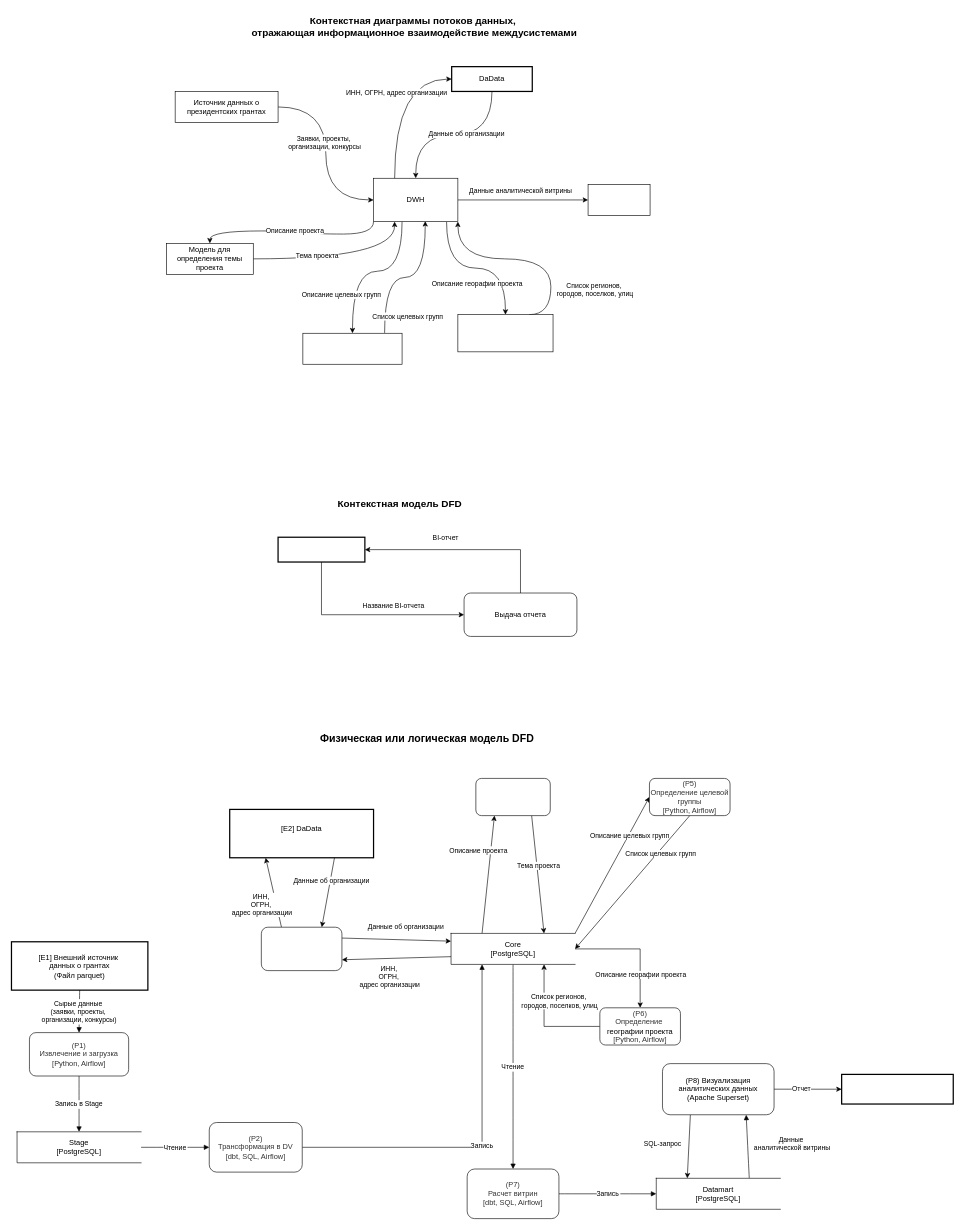
This 964x1229 diagram has some shape labels left out. The shapes that lost their labels are listed below. From the top down, each one's centre as x and y in pixels, then its label:
point (618, 199): BI-система
point (352, 348): Модель для определения целевых групп
point (505, 333): Модель для определения географии проекта
point (321, 549): Пользователь отчета
point (512, 797): (P4) Определение темы проекта [Python, Airflow]
point (301, 949): (P3) Получение данных организации по ИНН [Python, Airflow]
point (897, 1088): [E3] Пользователь отчета
